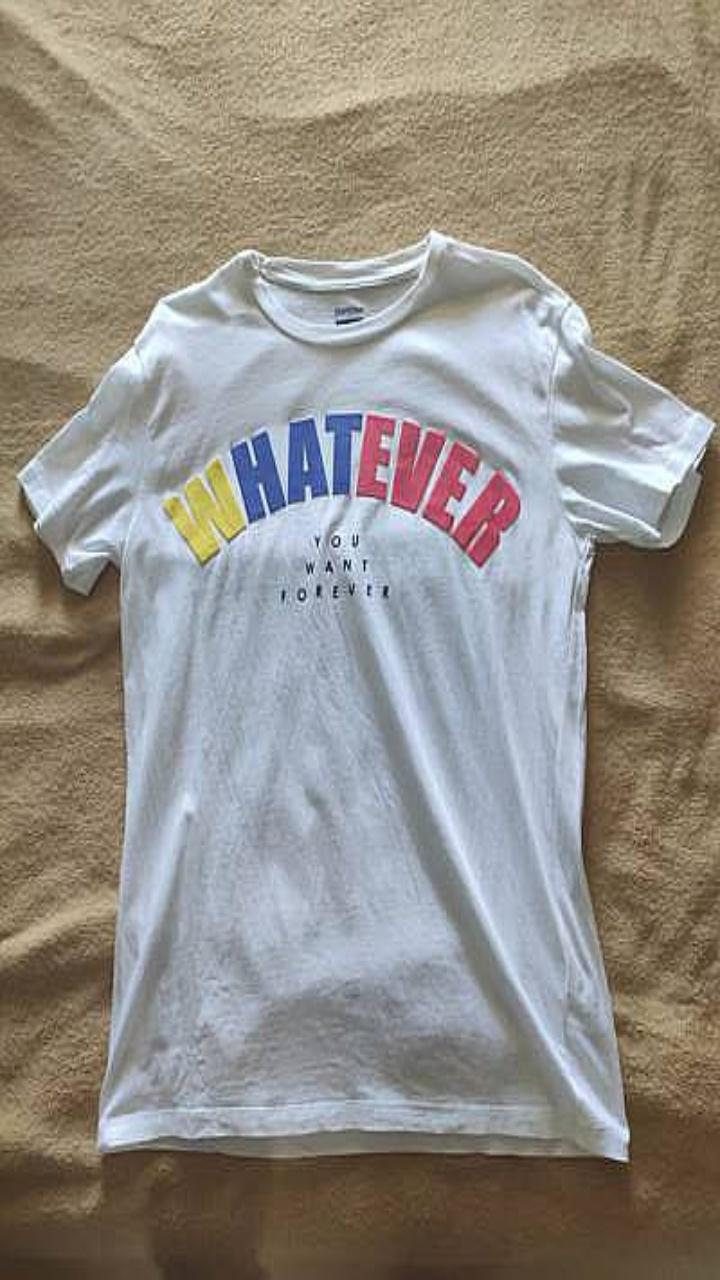T-Shirt: (17, 230, 714, 1160)
